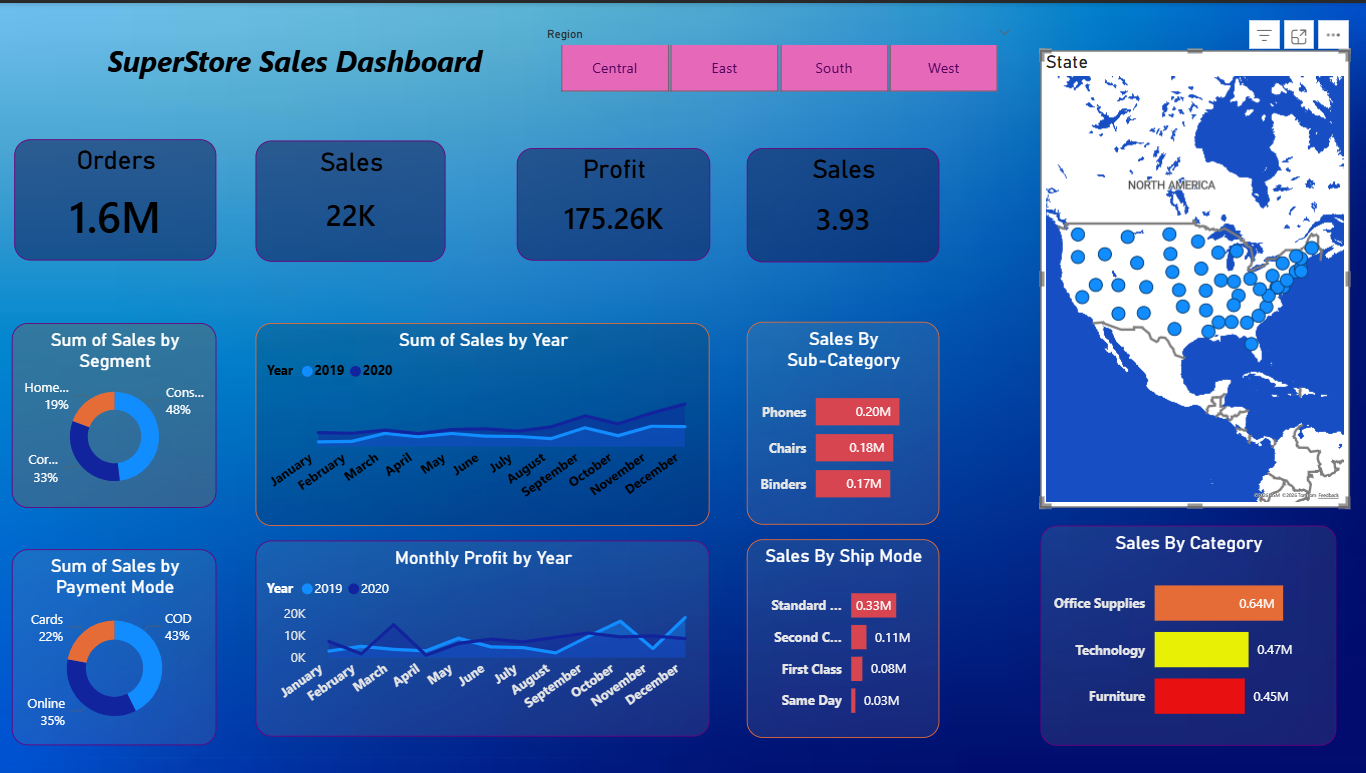

The dashboard page shown, as its layout file describes it:
{"tool":"powerbi","page":{"name":"Page 1","canvas":[1280,720],"ordinal":0},"visuals":[{"type":"clusteredBarChart","title":"Sales By Category","fields":{"Category":["SuperStore_Sales_Dataset (2).Category"],"Y":["Sum(SuperStore_Sales_Dataset (2).Sales)"]},"box":[970.3,486.2,274.9,205.1],"z":0},{"type":"clusteredBarChart","title":"Sales By Sub-Category","fields":{"Category":["SuperStore_Sales_Dataset (2).Sub-Category"],"Y":["Sum(SuperStore_Sales_Dataset (2).Sales)"]},"box":[697,297,179,189],"z":1000},{"type":"clusteredBarChart","title":"Sales By Ship Mode","fields":{"Category":["SuperStore_Sales_Dataset (2).Ship Mode"],"Y":["Sum(SuperStore_Sales_Dataset (2).Sales)"]},"box":[697,499,179,185],"z":2000},{"type":"areaChart","title":"Sum of Sales by Year","fields":{"Y":["Sum(SuperStore_Sales_Dataset (2).Sales)"],"Category":["SuperStore_Sales_Dataset (2).Order Date.Variation.Date Hierarchy.Month"],"Series":["SuperStore_Sales_Dataset (2).Order Date.Variation.Date Hierarchy.Year"]},"box":[240,297.4,422.6,188.7],"z":3000},{"type":"areaChart","title":"Monthly Profit by Year","fields":{"Category":["SuperStore_Sales_Dataset (2).Order Date.Variation.Date Hierarchy.Month","SuperStore_Sales_Dataset (2).Order Date.Variation.Date Hierarchy.Day"],"Series":["SuperStore_Sales_Dataset (2).Order Date.Variation.Date Hierarchy.Year"],"Y":["Sum(SuperStore_Sales_Dataset (2).Profit)"]},"box":[240,500.5,422.6,182.6],"z":4000},{"type":"donutChart","fields":{"Category":["SuperStore_Sales_Dataset (2).Segment"],"Y":["Sum(SuperStore_Sales_Dataset (2).Sales)"]},"box":[12.3,297.4,190.8,172.3],"z":6000},{"type":"donutChart","fields":{"Category":["SuperStore_Sales_Dataset (2).Payment Mode"],"Y":["Sum(SuperStore_Sales_Dataset (2).Sales)"]},"box":[12.3,508.7,190.8,182.6],"z":7000},{"type":"slicer","fields":{"Values":["SuperStore_Sales_Dataset (2).Region"]},"box":[498,18,456,72],"z":8000},{"type":"textbox","box":[60,30,431,60],"z":9000},{"type":"cardVisual","title":"Orders","fields":{"Data":["Sum(SuperStore_Sales_Dataset (2).Sales)"]},"box":[15,127,188,113],"z":10000},{"type":"cardVisual","title":"Sales","fields":{"Data":["Sum(SuperStore_Sales_Dataset (2).Quantity)"]},"box":[240,128,177,113],"z":11000},{"type":"cardVisual","title":"Profit","fields":{"Data":["Sum(SuperStore_Sales_Dataset (2).Profit)"]},"box":[483,135,180,105],"z":12000},{"type":"cardVisual","title":"Sales","fields":{"Data":["Avg(SuperStore_Sales_Dataset (2).AvgDelievery)"]},"box":[697,135,179,106],"z":13000},{"type":"map","fields":{"Category":["SuperStore_Sales_Dataset (2).State"]},"box":[969.8,44.7,287.2,424.7],"z":13001}]}

Visuals, with their boxes in screenshot pixels (x1, y1, x2, y2), scaled from the page's 1280x720 canvas onto the 1366x773 screenshot:
"Sales By Category" clusteredBarChart: [1035,522,1329,742]
"Sales By Sub-Category" clusteredBarChart: [744,319,935,522]
"Sales By Ship Mode" clusteredBarChart: [744,536,935,734]
"Sum of Sales by Year" areaChart: [256,319,707,522]
"Monthly Profit by Year" areaChart: [256,537,707,733]
donutChart - SuperStore_Sales_Dataset (2).Segment x Sum(SuperStore_Sales_Dataset (2).Sales): [13,319,217,504]
donutChart - SuperStore_Sales_Dataset (2).Payment Mode x Sum(SuperStore_Sales_Dataset (2).Sales): [13,546,217,742]
slicer - SuperStore_Sales_Dataset (2).Region: [531,19,1018,97]
textbox: [64,32,524,97]
"Orders" cardVisual: [16,136,217,258]
"Sales" cardVisual: [256,137,445,259]
"Profit" cardVisual: [515,145,708,258]
"Sales" cardVisual: [744,145,935,259]
map - SuperStore_Sales_Dataset (2).State: [1035,48,1341,504]
